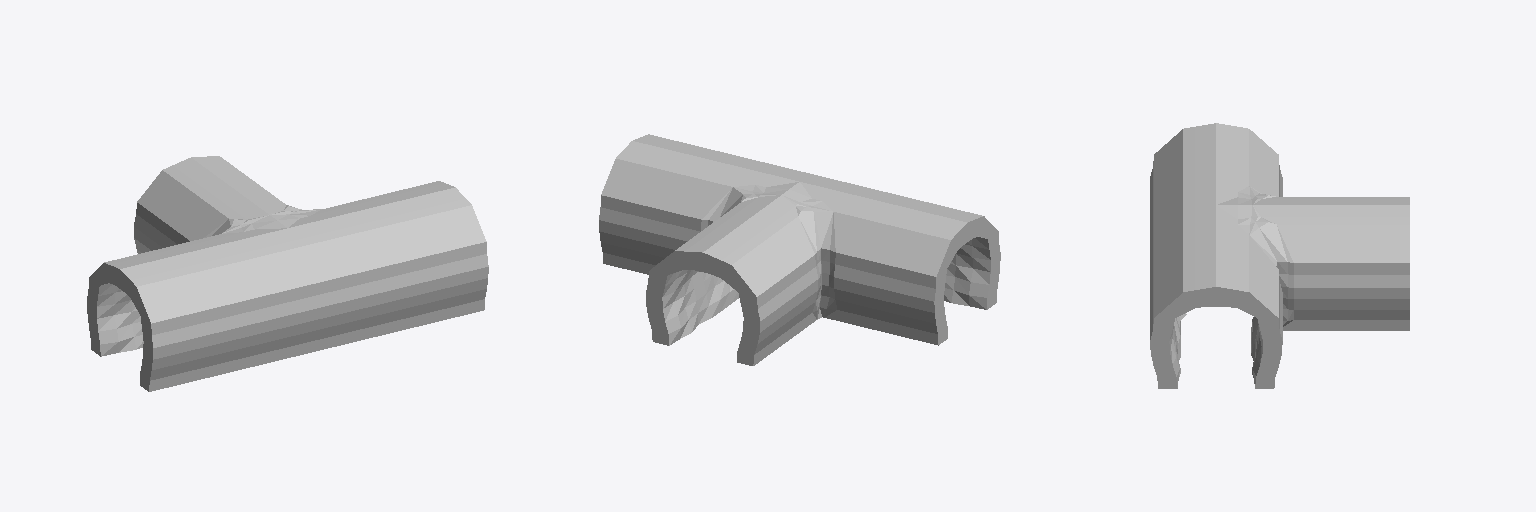
File: model2detailed.obj
The picture shows the model from 3 angles: view 1: azimuth 30°, elevation 25°; view 2: azimuth 150°, elevation 25°; view 3: azimuth 270°, elevation 25°; orthographic projection.
Visible parts, largest first — view 1: Cube.008; view 2: Cube.008; view 3: Cube.008.
Boxes of the visible parts, <box> form: Cube.008: <box>87,156,488,391</box>; Cube.008: <box>599,134,1000,365</box>; Cube.008: <box>1150,123,1409,388</box>.
Bounding box in the file's own units: 20 × 5.83 × 13.43.